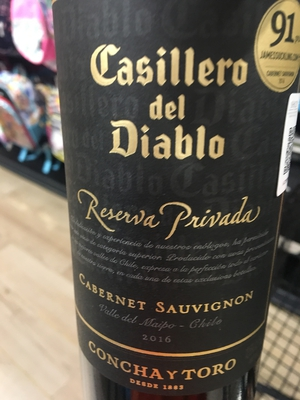casillero del diablo reserva privada cabernet sauvignon: (53, 3, 300, 397)
